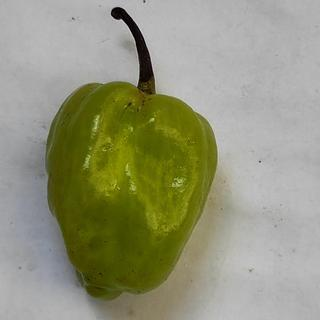Grade-A: (41, 75, 222, 300)
